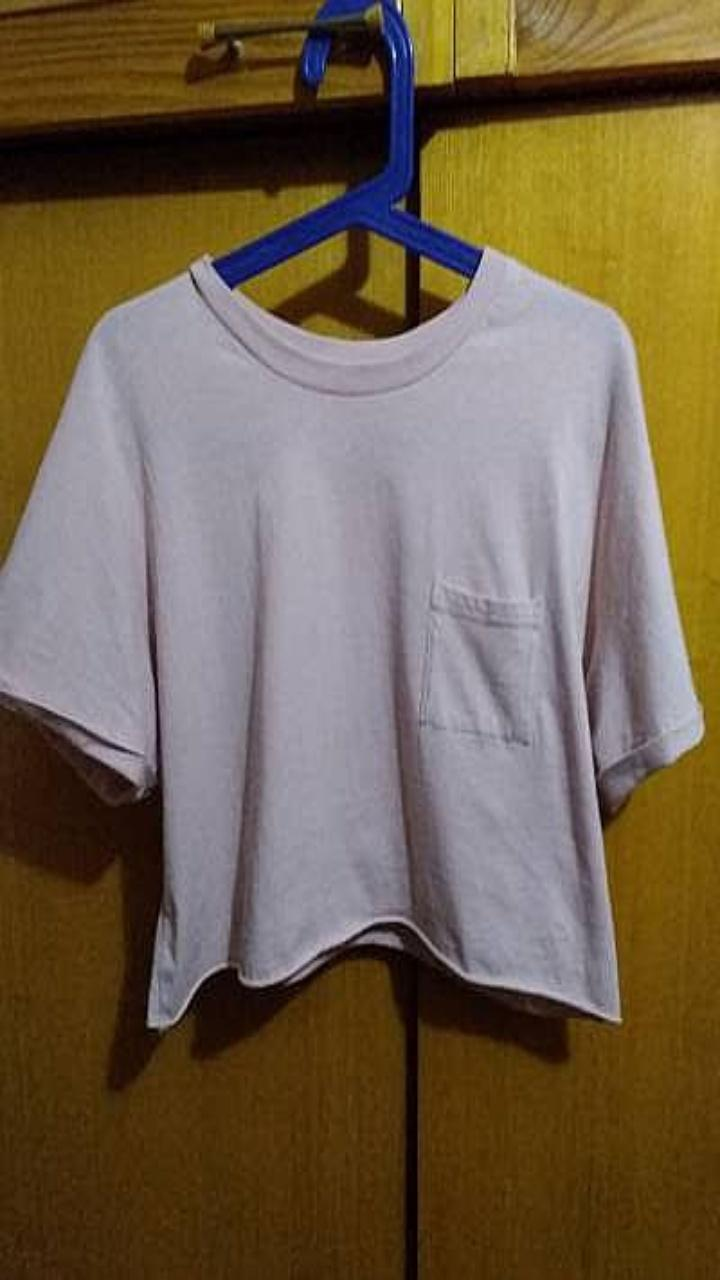T-Shirt: (0, 245, 703, 1028)
